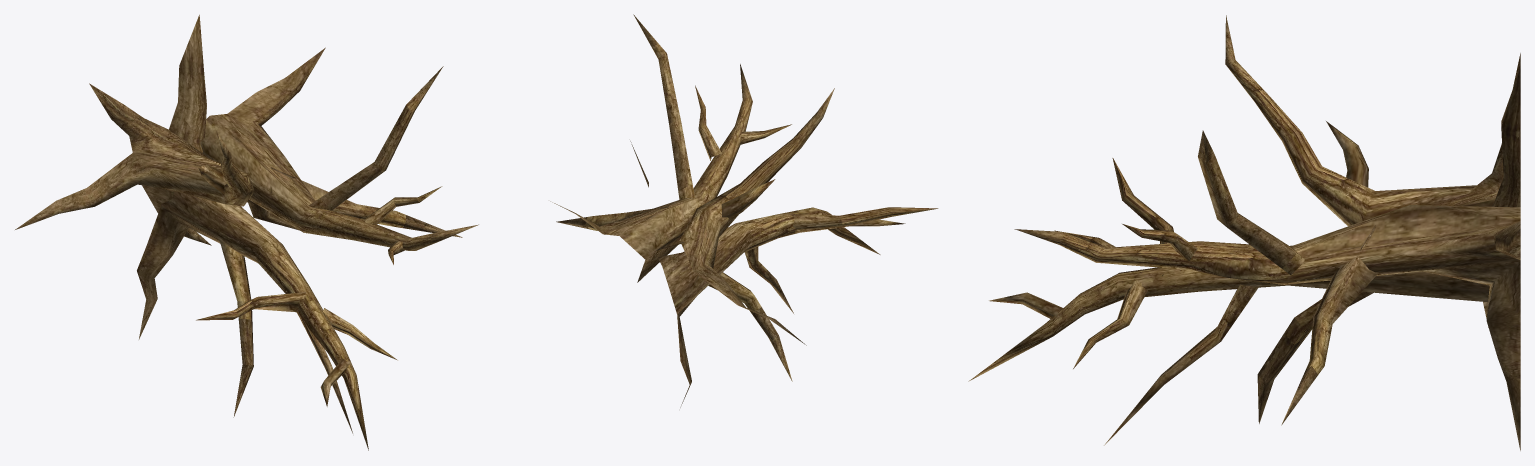
3 renders of one model, left to right at view 1: azimuth 30°, elevation 25°; view 2: azimuth 150°, elevation 25°; view 3: azimuth 270°, elevation 25°, orthographic. The views are drawn at different scales.
Visible parts, largest first — view 1: model_Object23; view 2: model_Object23; view 3: model_Object23.
Boxes of the visible parts, x1,y1,x2,y2 form: model_Object23: [15, 14, 478, 450]; model_Object23: [550, 14, 938, 407]; model_Object23: [968, 15, 1520, 450].
Size of the model in its own units: 1.7 by 1.47 by 1.79.
Materials: 1 (1 with a texture image).
